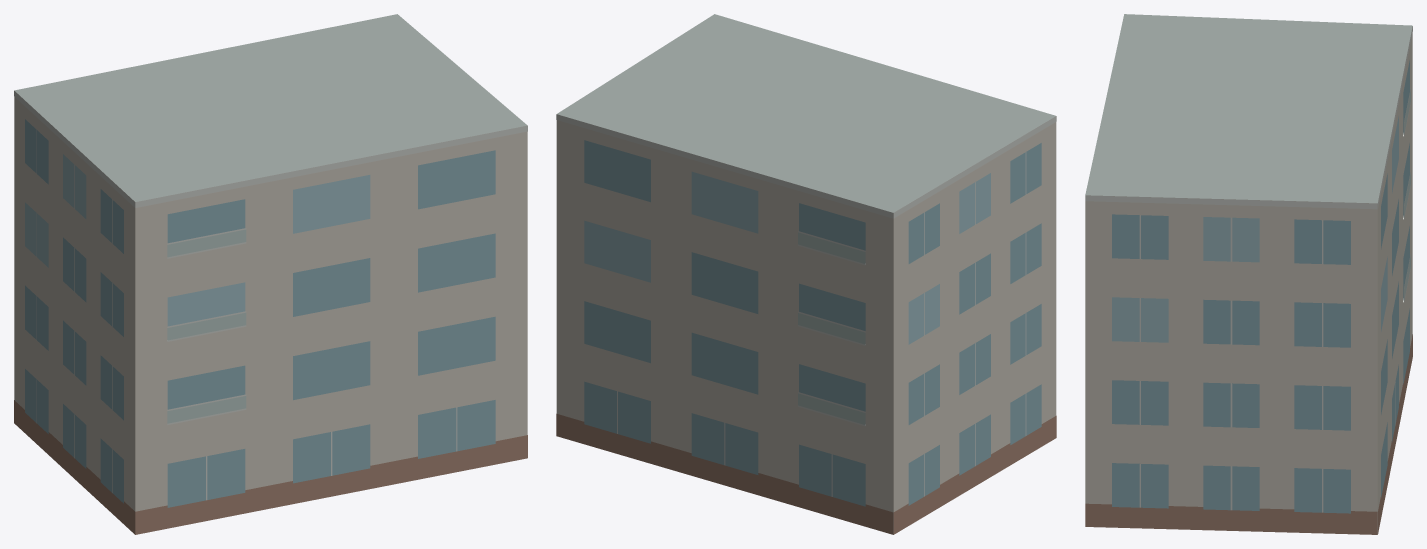
The model's file is survey-upis-32803813.glb.
3 renders of one model, left to right at view 1: azimuth 30°, elevation 25°; view 2: azimuth 150°, elevation 25°; view 3: azimuth 270°, elevation 25°, orthographic. The views are drawn at different scales.
Parts seen in each view (by area): view 1: survey-upis-32803813.tmp; view 2: survey-upis-32803813.tmp; view 3: survey-upis-32803813.tmp.
Boxes of the visible parts, box(x1,y1,x2,y2) form: survey-upis-32803813.tmp: box(14, 14, 527, 534); survey-upis-32803813.tmp: box(556, 14, 1056, 534); survey-upis-32803813.tmp: box(1085, 14, 1412, 534).
Bounding box in the file's own units: 16.69 × 13.62 × 12.21.
